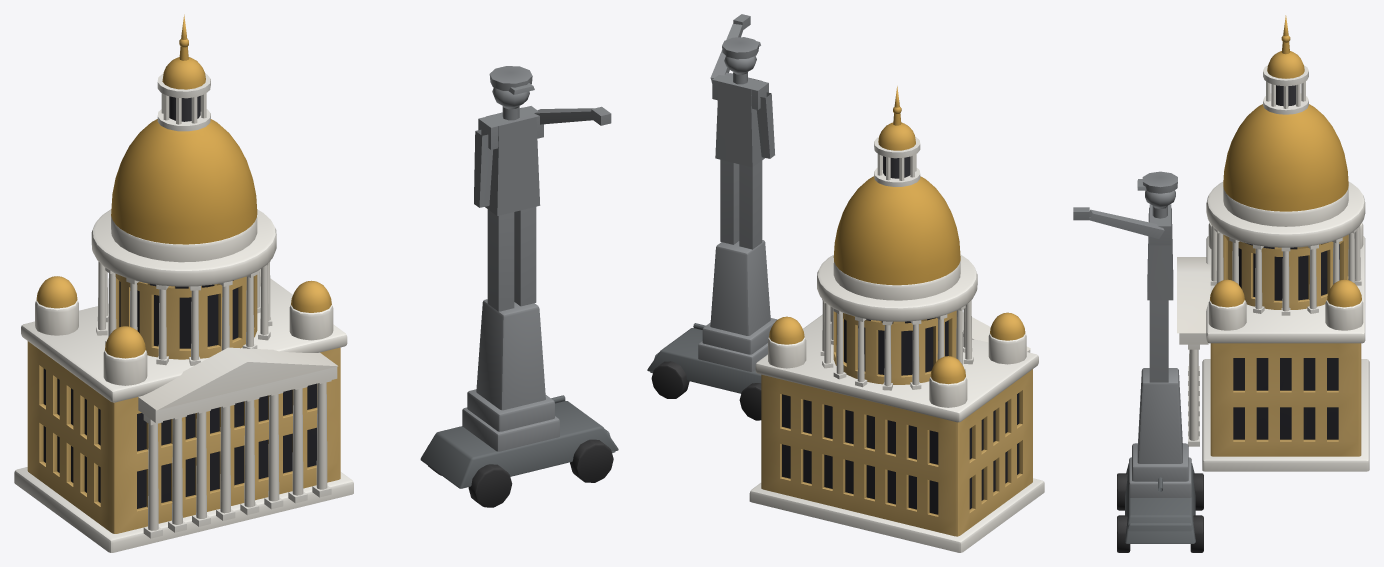
The model's file is landmark_leningrad_solo.glb.
3 renders of one model, left to right at view 1: azimuth 30°, elevation 25°; view 2: azimuth 150°, elevation 25°; view 3: azimuth 270°, elevation 25°, orthographic. The views are drawn at different scales.
Parts seen in each view (by area): view 1: Admiralty_Walls, Admiralty_Colonnade, Admiralty_Gilded, Lenin_Figure, Lenin_Pedestal, Lenin_ArmoredCar; view 2: Admiralty_Walls, Admiralty_Gilded, Lenin_Figure, Lenin_Pedestal, Lenin_ArmoredCar, Admiralty_Colonnade; view 3: Admiralty_Walls, Admiralty_Gilded, Admiralty_Colonnade, Lenin_Figure, Lenin_Pedestal, Lenin_ArmoredCar.
Part boxes in pixels (<box>): Admiralty_Walls: <box>14,209,353,552</box>; Admiralty_Colonnade: <box>96,261,337,538</box>; Admiralty_Gilded: <box>36,14,331,358</box>; Lenin_Figure: <box>474,66,611,311</box>; Lenin_Pedestal: <box>462,299,559,451</box>; Lenin_ArmoredCar: <box>420,395,618,507</box>; Admiralty_Walls: <box>749,254,1044,552</box>; Admiralty_Gilded: <box>769,86,1025,384</box>; Lenin_Figure: <box>710,14,774,249</box>; Lenin_Pedestal: <box>698,240,777,371</box>; Lenin_ArmoredCar: <box>647,323,761,420</box>; Admiralty_Colonnade: <box>820,299,1030,390</box>; Admiralty_Walls: <box>1202,182,1369,471</box>; Admiralty_Gilded: <box>1210,15,1361,307</box>; Admiralty_Colonnade: <box>1177,225,1361,446</box>; Lenin_Figure: <box>1073,171,1177,382</box>; Lenin_Pedestal: <box>1129,368,1191,497</box>; Lenin_ArmoredCar: <box>1117,463,1203,552</box>.
Bounding box in the file's own units: 1.1 × 1.07 × 0.708.
